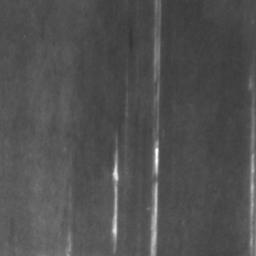Bright scratch: (150, 0, 163, 256), (113, 143, 120, 251)
